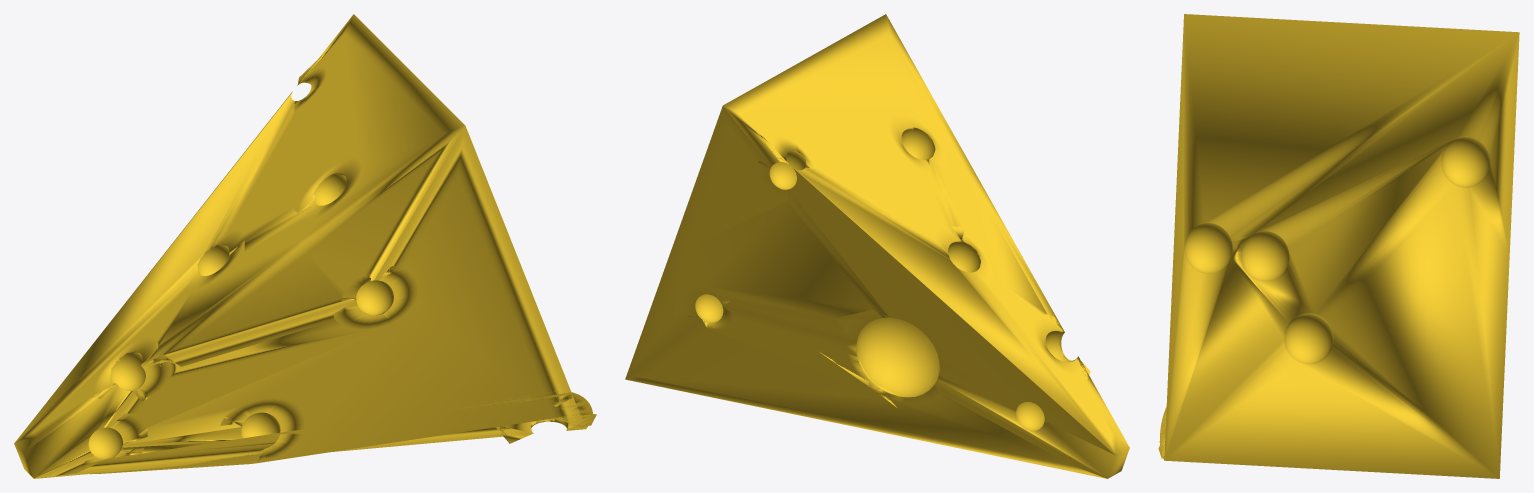
Rendered from Cheese.glb.
3 renders of one model, left to right at view 1: azimuth 30°, elevation 25°; view 2: azimuth 150°, elevation 25°; view 3: azimuth 270°, elevation 25°, orthographic. The views are drawn at different scales.
Visible parts, largest first — view 1: Cube; view 2: Cube; view 3: Cube.
Boxes of the visible parts, box(x1,y1,x2,y2) form: Cube: box(14, 14, 596, 478); Cube: box(625, 14, 1129, 478); Cube: box(1158, 14, 1519, 478).
Size of what is drawn, in the model's own units: 6.86 by 4.47 by 3.7.
